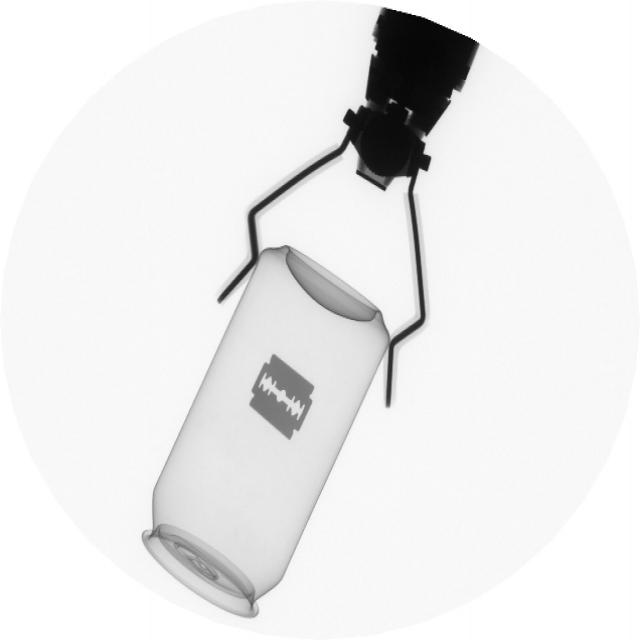BLADE: (248, 348, 321, 448)
